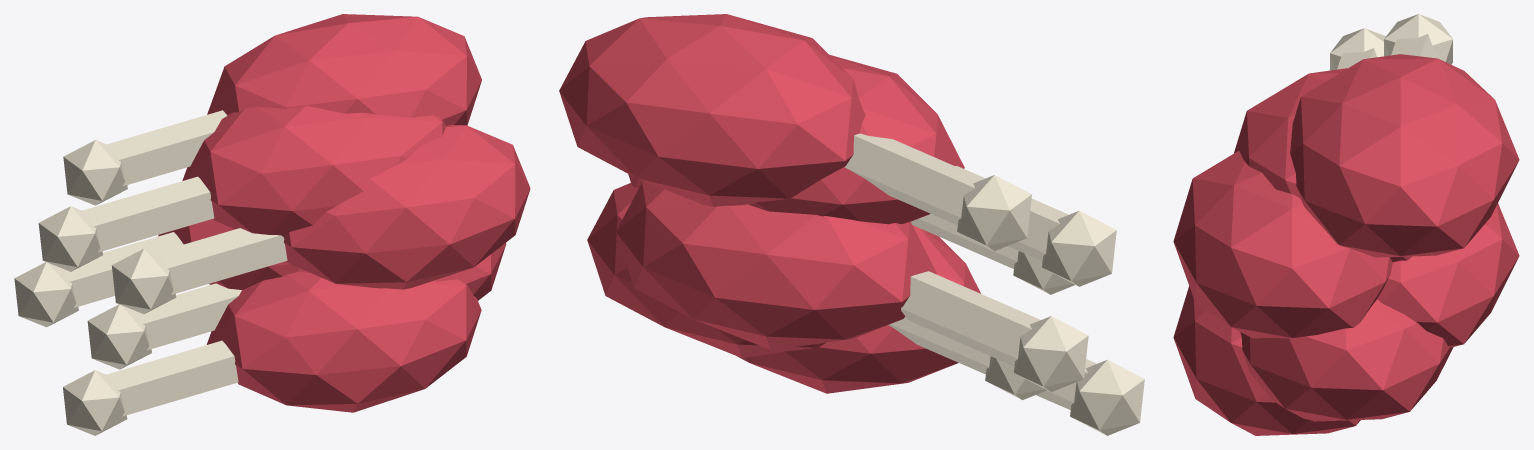
File: item_011_meat_l.glb
3 renders of one model, left to right at view 1: azimuth 30°, elevation 25°; view 2: azimuth 150°, elevation 25°; view 3: azimuth 270°, elevation 25°, orthographic. The views are drawn at different scales.
Parts seen in each view (by area): view 1: item_011_meat_l; view 2: item_011_meat_l; view 3: item_011_meat_l.
Boxes of the visible parts, <box> form: item_011_meat_l: <box>14,14,530,435</box>; item_011_meat_l: <box>559,14,1144,435</box>; item_011_meat_l: <box>1173,14,1519,435</box>.
Size of the model in its own units: 0.6357 by 0.441 by 0.3836.
